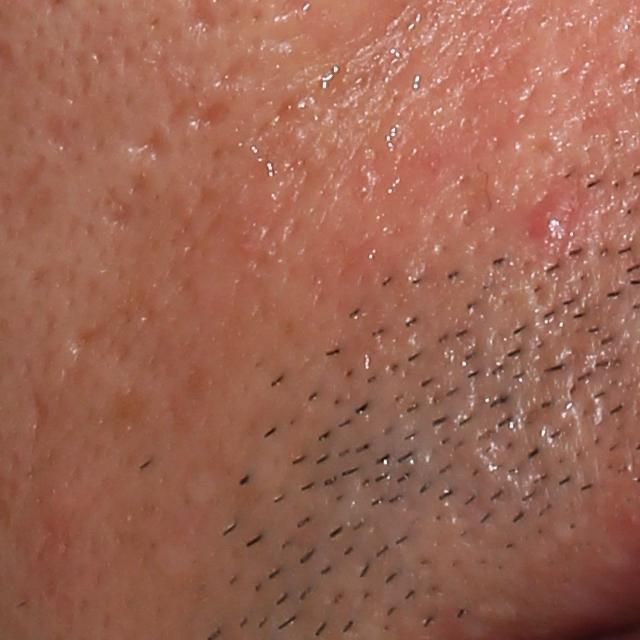atrophic_scar: (121, 129, 176, 176), (63, 324, 111, 361), (36, 110, 72, 159), (212, 53, 249, 95), (29, 391, 54, 453), (194, 96, 231, 137), (103, 196, 137, 231)
papule: (526, 163, 590, 255)
